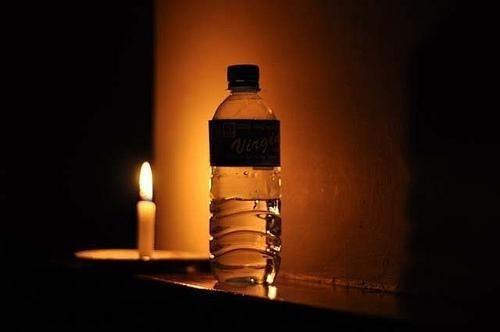bottle-plastic: (209, 61, 287, 289)
